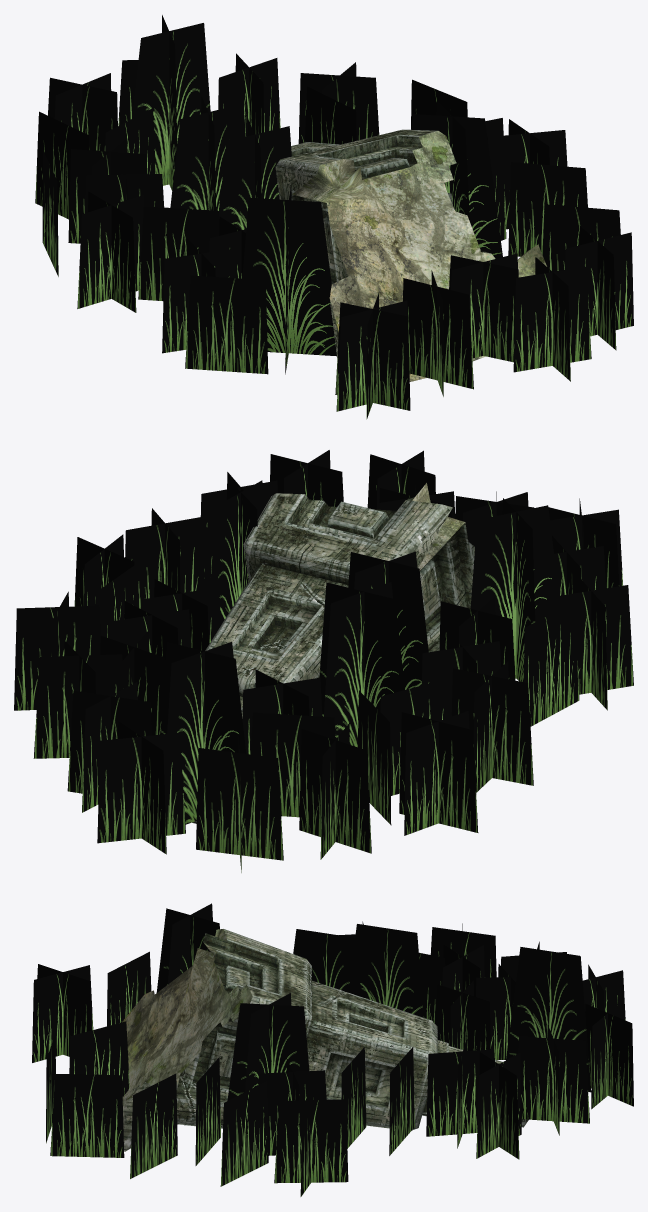
3 renders of one model, top to bottom at view 1: azimuth 30°, elevation 25°; view 2: azimuth 150°, elevation 25°; view 3: azimuth 270°, elevation 25°, orthographic. The views are drawn at different scales.
Visible parts, largest first — view 1: grass00_grass002Shape.005, remains2_remainsShape2.005; view 2: grass00_grass002Shape.005, remains2_remainsShape2.005; view 3: grass00_grass002Shape.005, remains2_remainsShape2.005.
Part boxes in pixels (box(x1,y1,x2,y2)): grass00_grass002Shape.005: box(35, 15, 633, 419); remains2_remainsShape2.005: box(275, 129, 546, 381); grass00_grass002Shape.005: box(14, 450, 633, 872); remains2_remainsShape2.005: box(192, 483, 474, 823); grass00_grass002Shape.005: box(32, 903, 633, 1196); remains2_remainsShape2.005: box(122, 929, 528, 1151).
Size of the model in its own units: 4.87 by 1.91 by 6.4.
3 materials, 3 textured.
